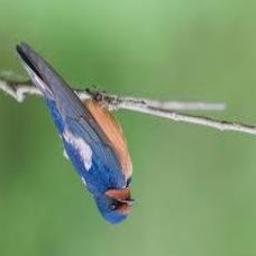Swallow: (15, 43, 136, 223)
